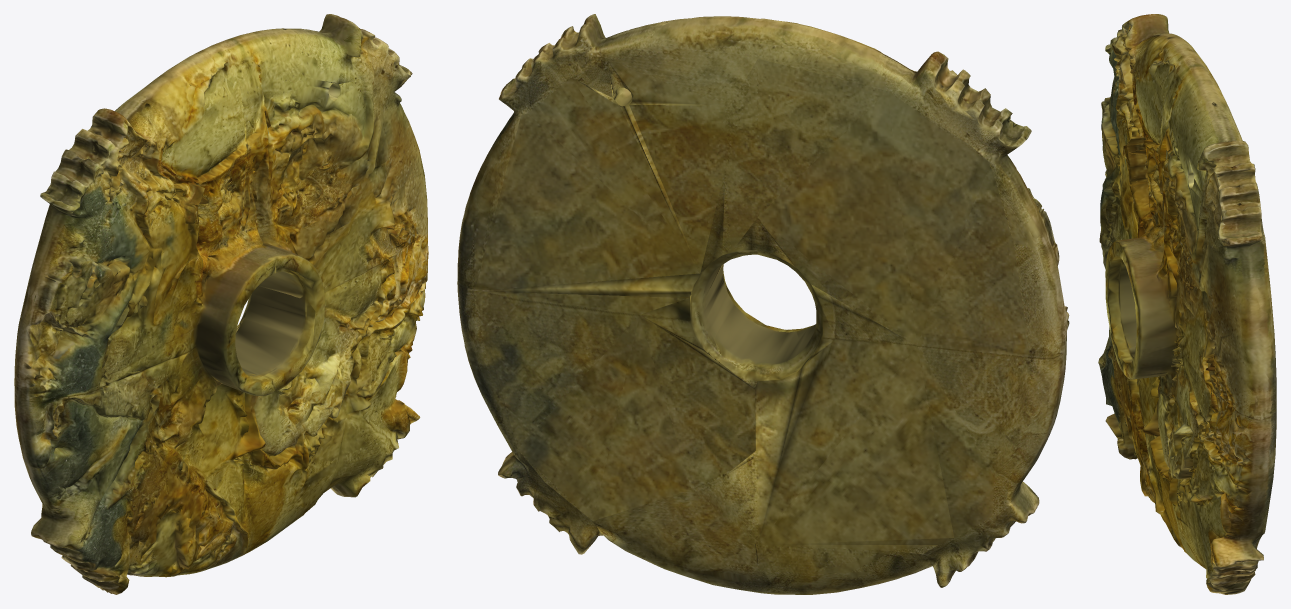
Rendered from 07-jade-bi.glb.
3 renders of one model, left to right at view 1: azimuth 30°, elevation 25°; view 2: azimuth 150°, elevation 25°; view 3: azimuth 270°, elevation 25°, orthographic. The views are drawn at different scales.
Visible parts, largest first — view 1: Meshy_AI_Ancient_Jade_Sun_Disc_0817193606_texture; view 2: Meshy_AI_Ancient_Jade_Sun_Disc_0817193606_texture; view 3: Meshy_AI_Ancient_Jade_Sun_Disc_0817193606_texture.
Part boxes in pixels (box(x1,y1,x2,y2)): Meshy_AI_Ancient_Jade_Sun_Disc_0817193606_texture: box(14, 14, 428, 594); Meshy_AI_Ancient_Jade_Sun_Disc_0817193606_texture: box(457, 14, 1069, 594); Meshy_AI_Ancient_Jade_Sun_Disc_0817193606_texture: box(1098, 14, 1276, 594).
Bounding box in the file's own units: 0.5234 × 0.542 × 0.1794.
Materials: 1 (1 with a texture image).
